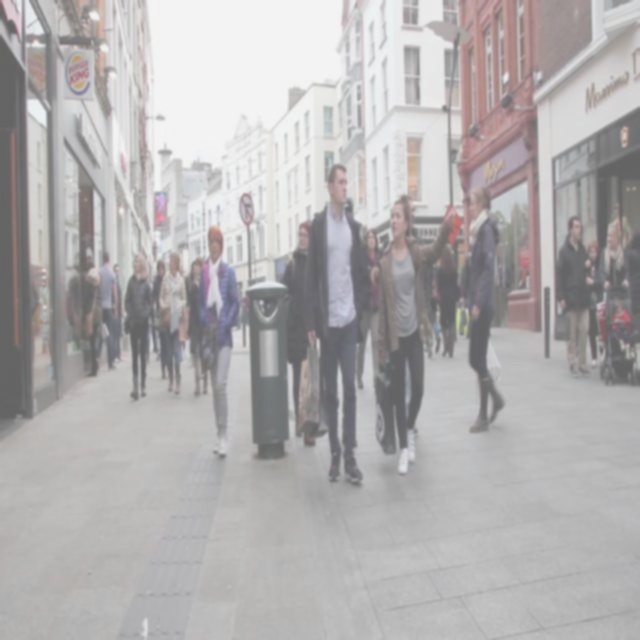pessoa: (374, 190, 460, 478), (303, 160, 366, 490), (464, 180, 507, 438), (195, 223, 241, 461), (280, 218, 318, 442), (554, 211, 596, 380), (354, 224, 389, 392), (122, 252, 154, 402), (598, 220, 628, 368), (157, 251, 187, 396), (78, 257, 105, 380), (188, 254, 209, 396), (584, 237, 606, 368), (435, 240, 458, 359), (96, 250, 118, 370), (187, 258, 204, 382), (150, 258, 168, 362), (608, 293, 632, 367), (458, 250, 474, 338), (111, 262, 123, 364), (612, 202, 633, 250), (78, 228, 92, 278), (430, 297, 442, 355)
